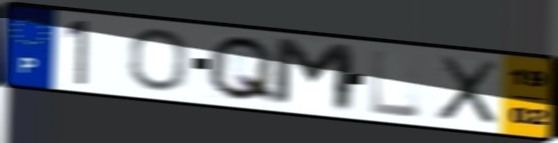1: (63, 18, 90, 87)
L: (369, 47, 424, 120)
M: (270, 35, 360, 116)
O: (126, 26, 191, 94)
Q: (203, 34, 282, 107)
X: (433, 54, 501, 128)
